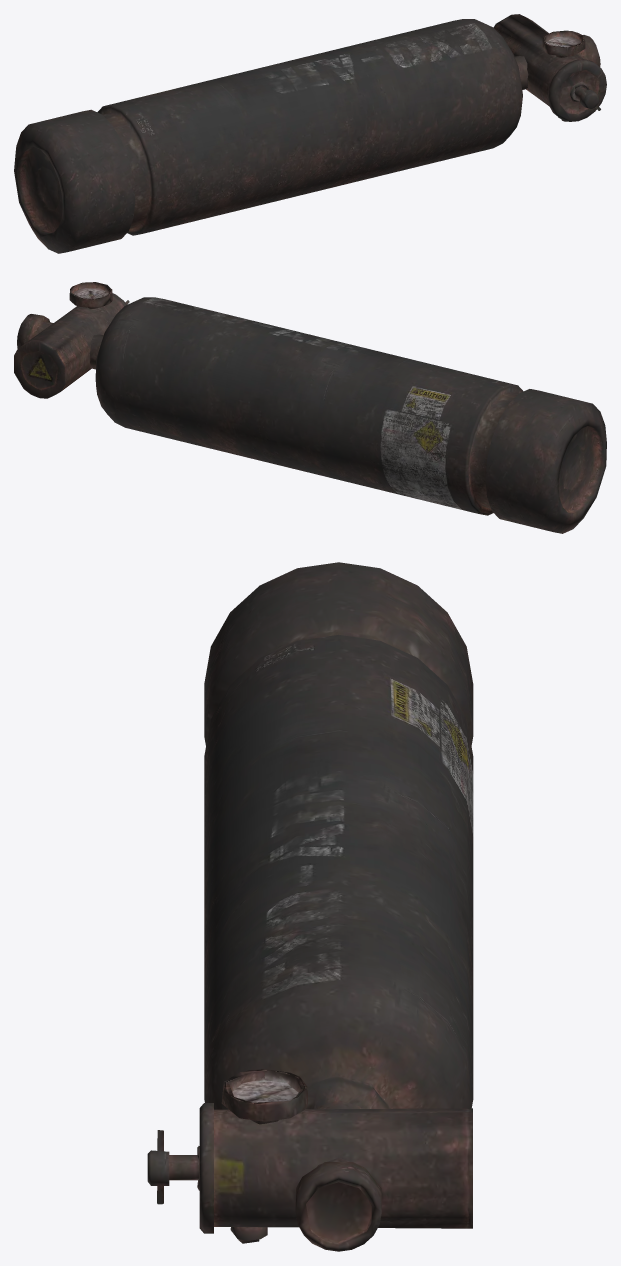
Rendered from oxygen_tank_lying.glb.
The picture shows the model from 3 angles, top to bottom: view 1: azimuth 30°, elevation 25°; view 2: azimuth 150°, elevation 25°; view 3: azimuth 270°, elevation 25°; orthographic projection. The views are drawn at different scales.
Parts seen in each view (by area): view 1: Object_2; view 2: Object_2; view 3: Object_2.
Boxes of the visible parts, bbox=[...] form: Object_2: bbox=[14, 14, 606, 253]; Object_2: bbox=[14, 282, 606, 533]; Object_2: bbox=[147, 562, 473, 1251].
Bounding box in the file's own units: 1.35 × 0.2868 × 0.3472.
1 material, 1 textured.
